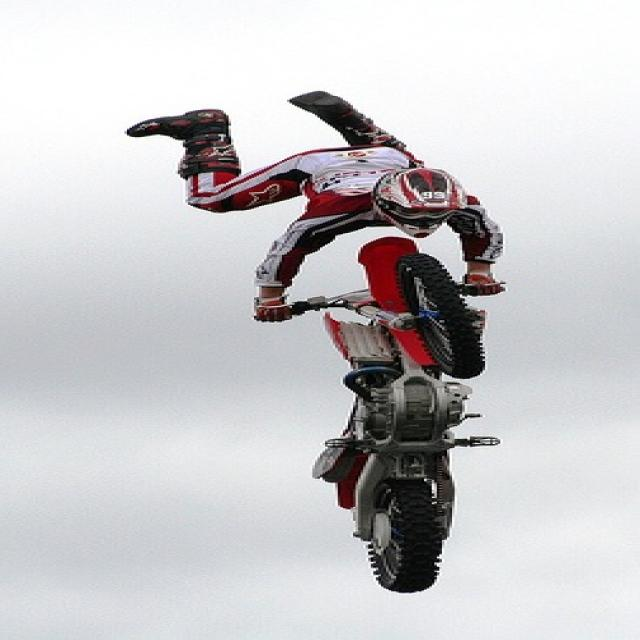motorbike: (239, 236, 510, 595)
